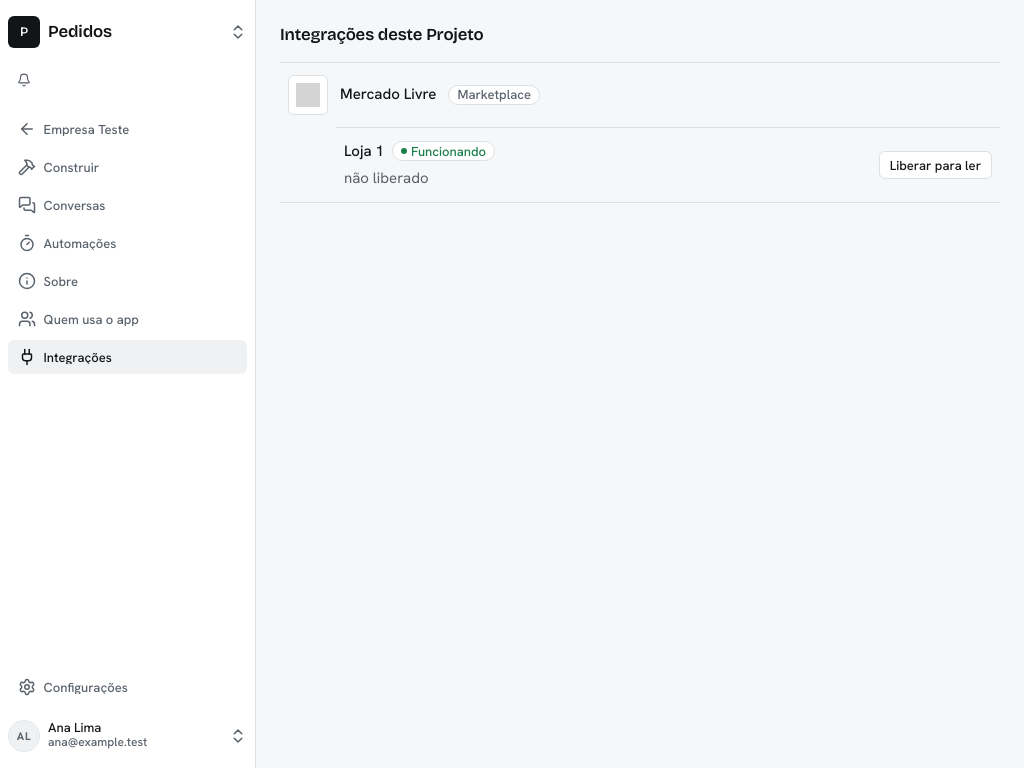
a liberação recusada porque a ligação não funciona mais diz a frase na janela
Click the button with aria-label "Liberar para ler: Loja 1": click(935, 165) [879,151,992,179]
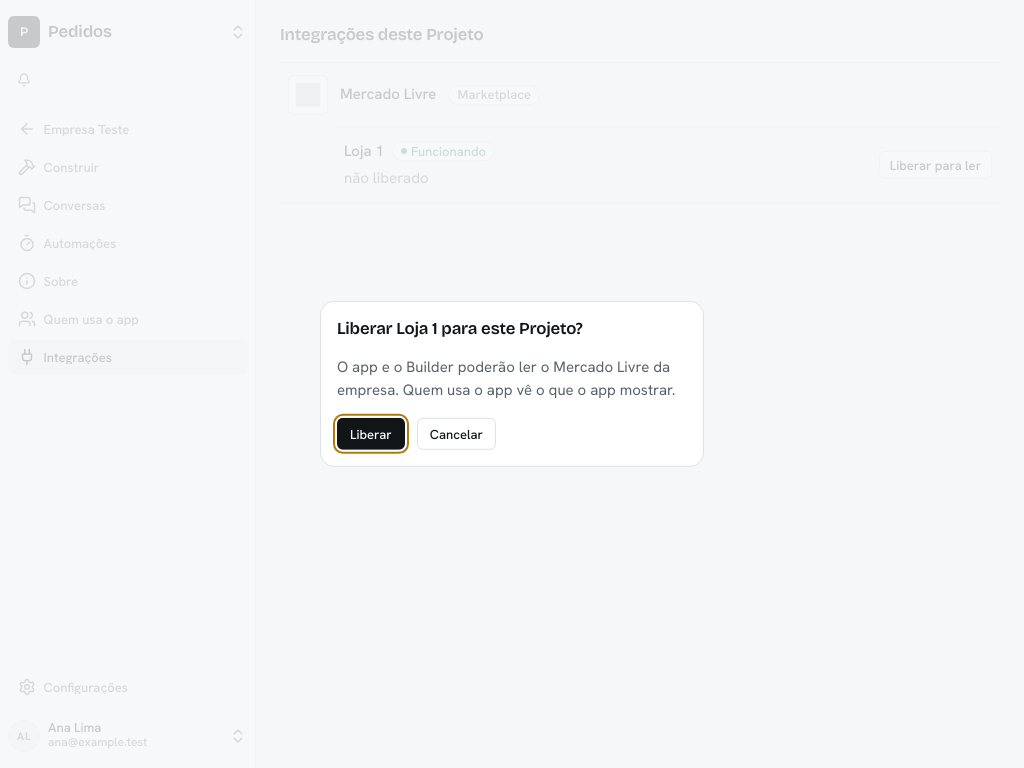
Click the button "Liberar": click(371, 434) [337,418,405,450]
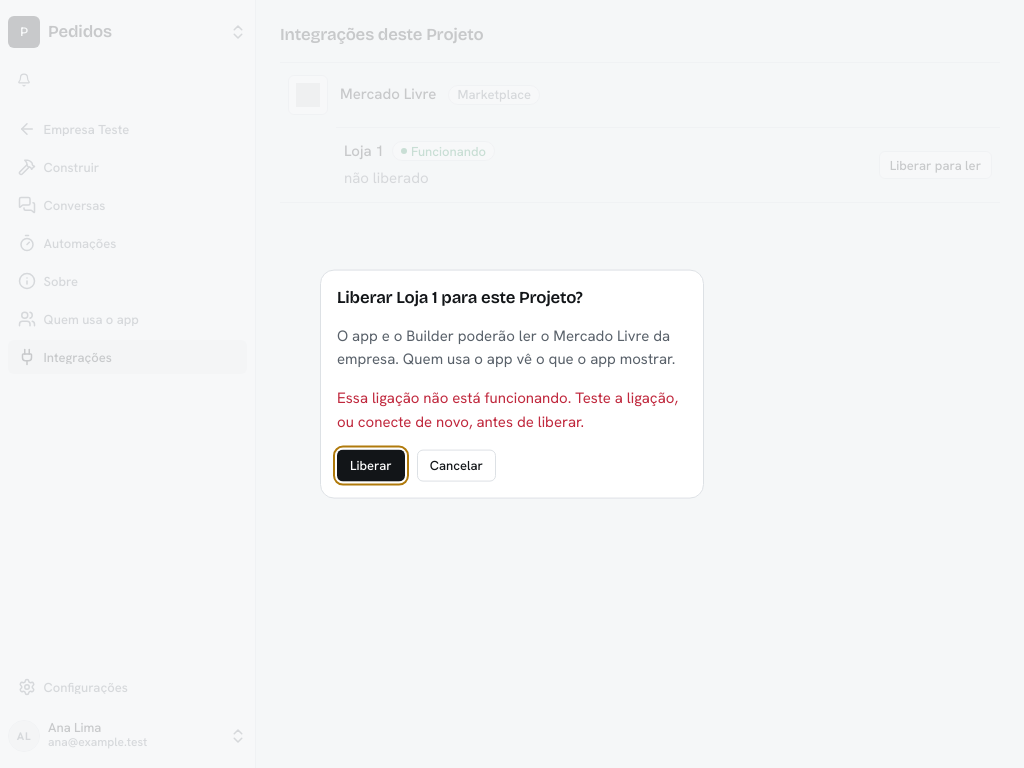
Result: the text "Essa ligação não está funcionando. Teste a ligação, ou conecte de novo, antes de liberar." is shown at [337,388,678,431]
